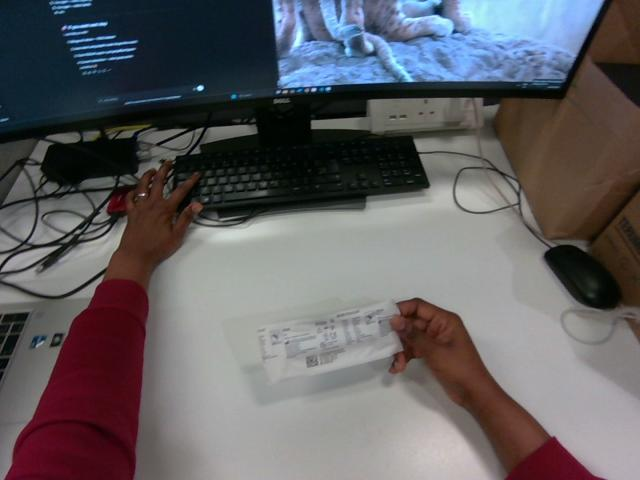syringe: (258, 301, 403, 383)
